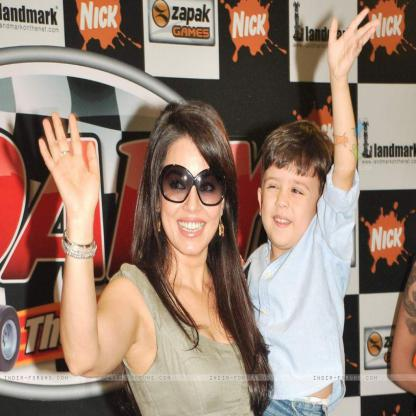face: (160, 135, 223, 257), (264, 152, 320, 250)
